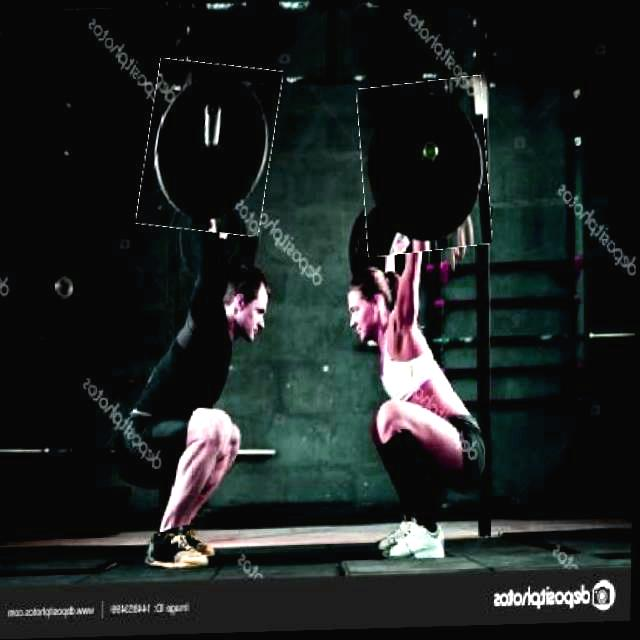barbell: (141, 61, 278, 237), (359, 81, 492, 257)
